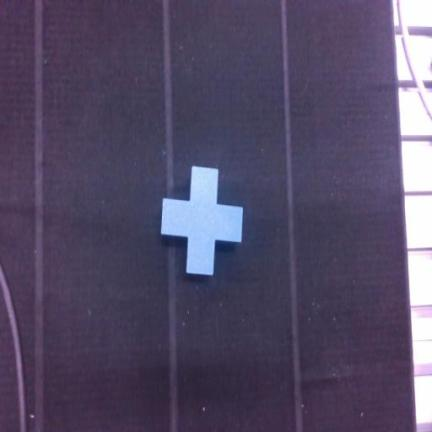cross: (162, 167, 242, 275)
